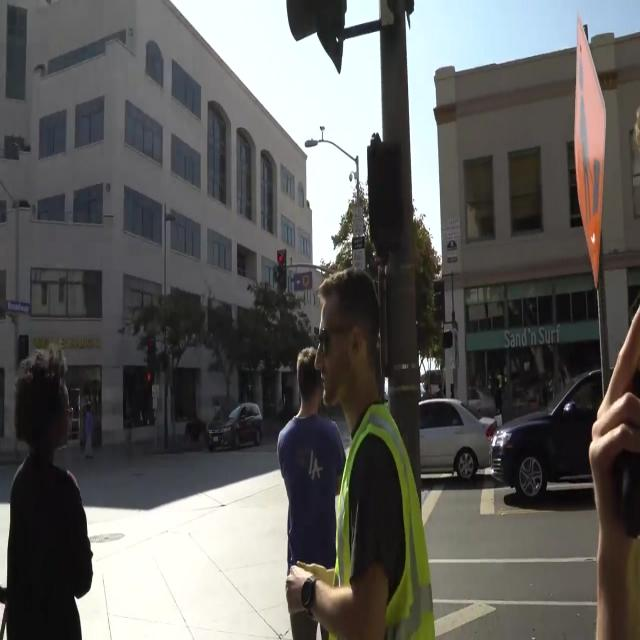Reflective-Jacket: (312, 395, 439, 640)
